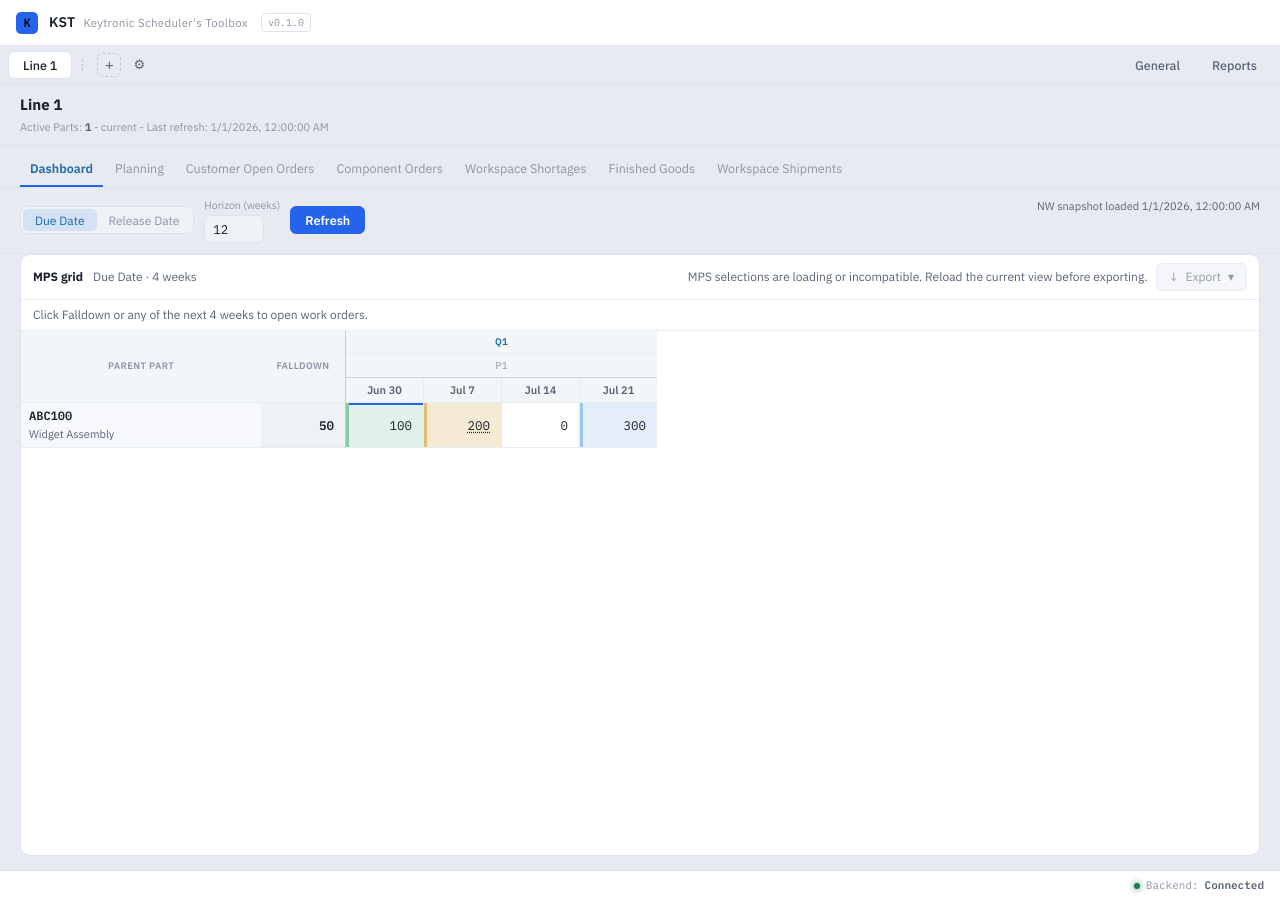
Test case: MpsWorkspace › horizon selection survives navigating to General and back
expect the text "Backend:" reads "Backend: Connected": met, box [1134,877,1264,894]
expect the text "ABC100" is shown: met, box [29,408,72,423]
Replace the text in the number field named "horizon in weeks" with "24" at point(234, 228), box [204,214,264,242]
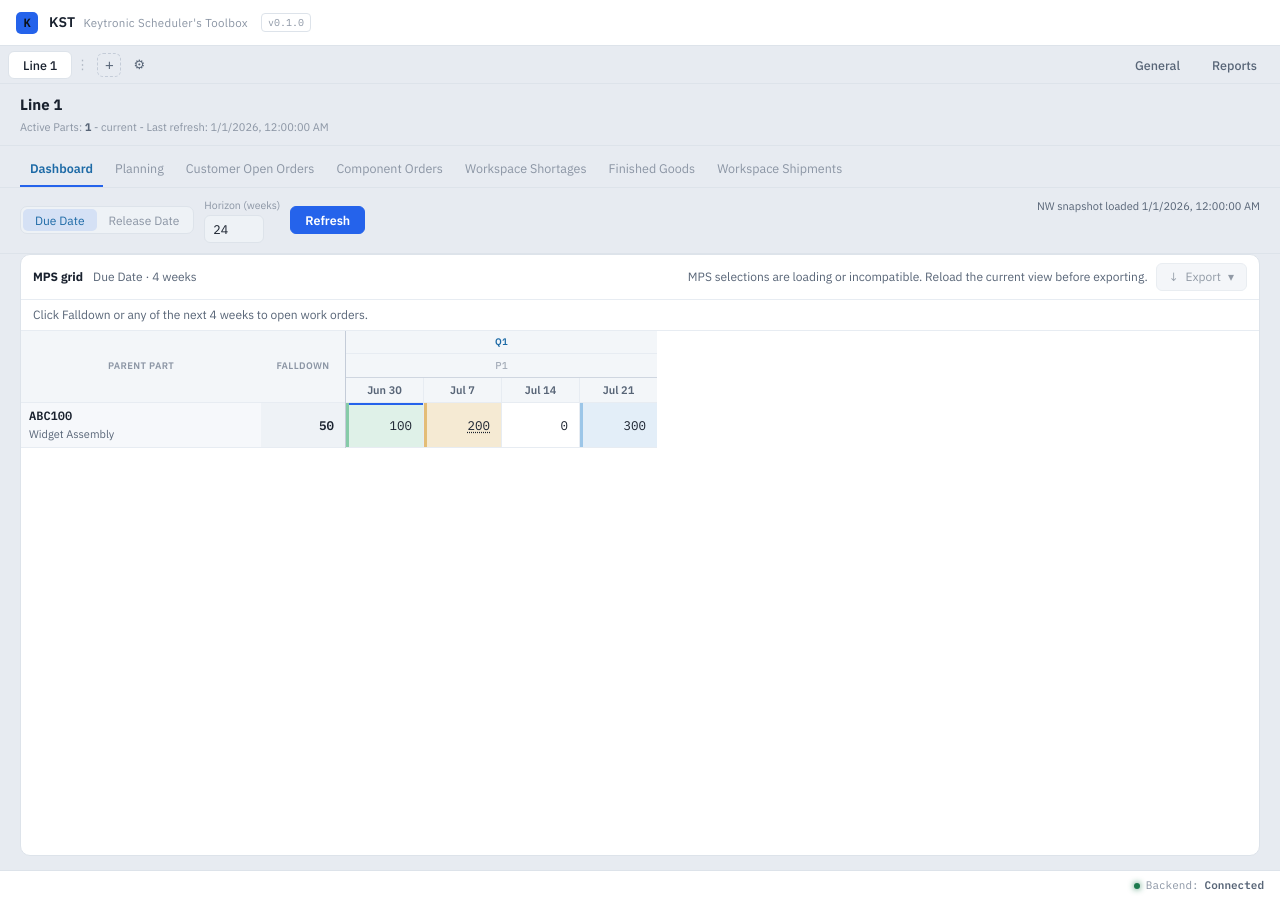
Click the tab "General" at point(1158, 64), box [1120,50,1195,78]
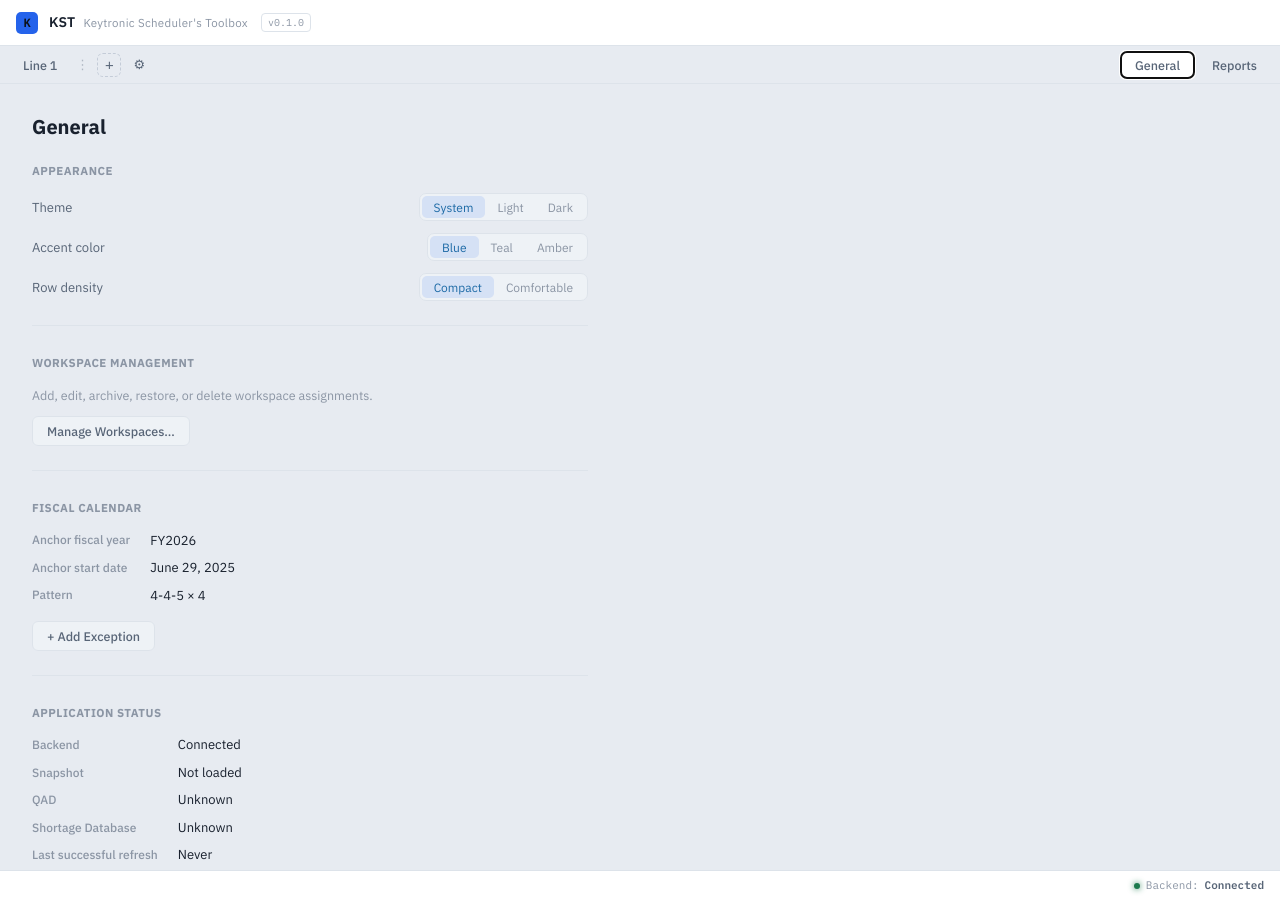
expect the heading "General" is shown: met, box [32,113,106,140]
Click the tab "Line 1" at point(40, 64), box [8,50,72,78]
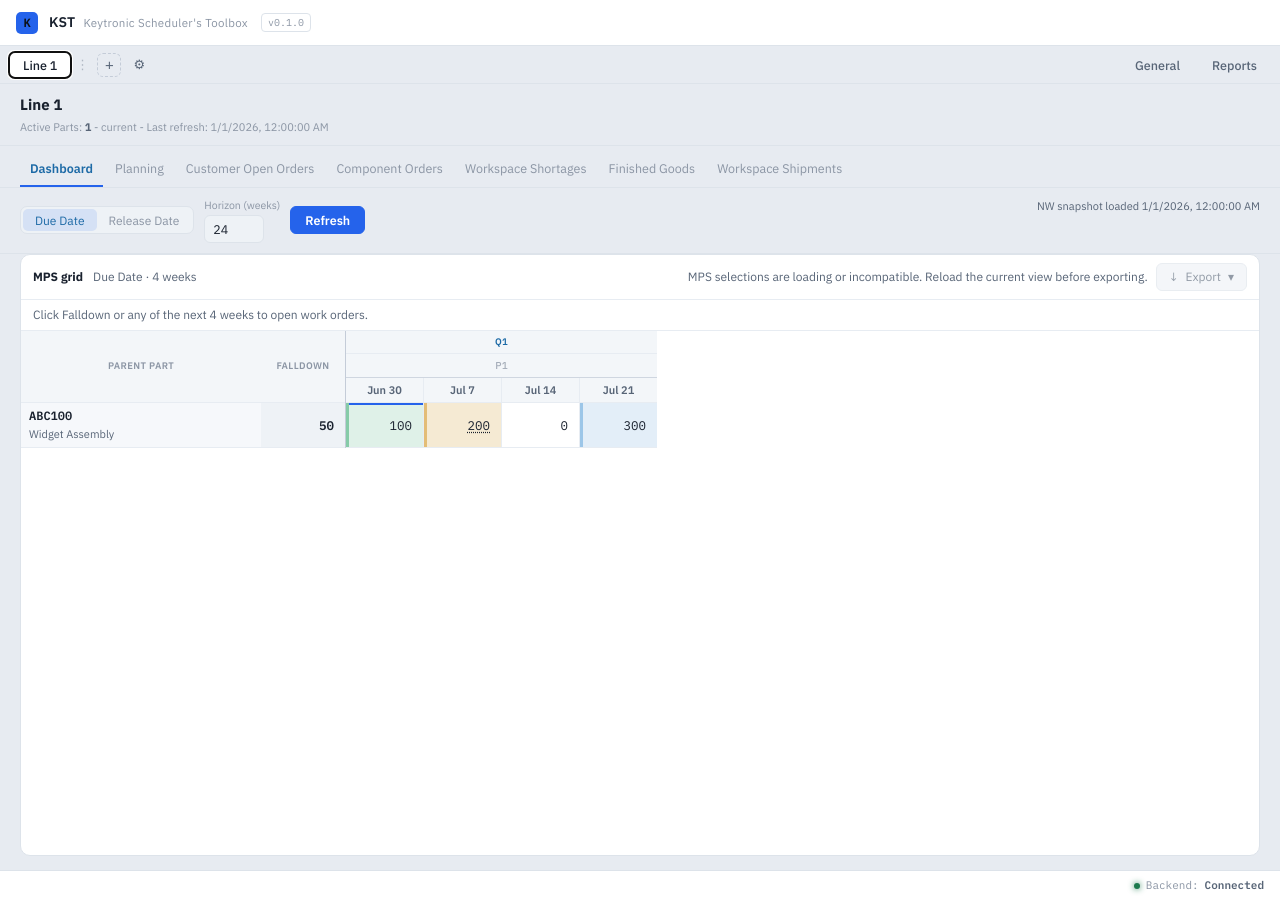
expect the number field named "horizon in weeks" holds "24": met, box [204,214,264,242]
